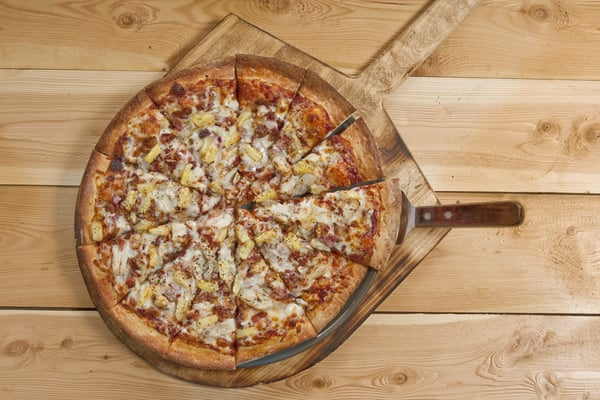sandwich: (411, 201, 525, 227)
